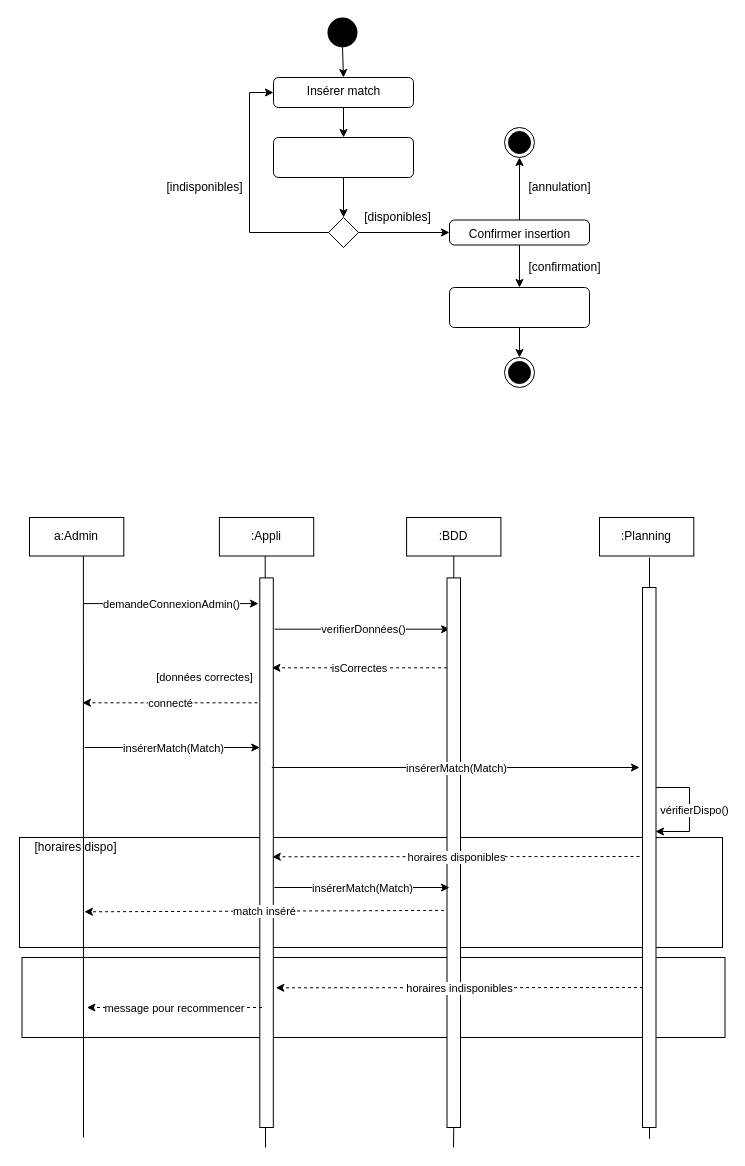
Some shapes in this 745 by 1166 pixel diagram are drawn without their labels. The centre of each missing label's shape, as x and y in pixels:
"[horaires indispo]" belongs at pixel 373 997.
"Ajouter match dans la base de données" belongs at pixel 519 307.
"Vérifier nouveaux horaires" belongs at pixel 343 157.
